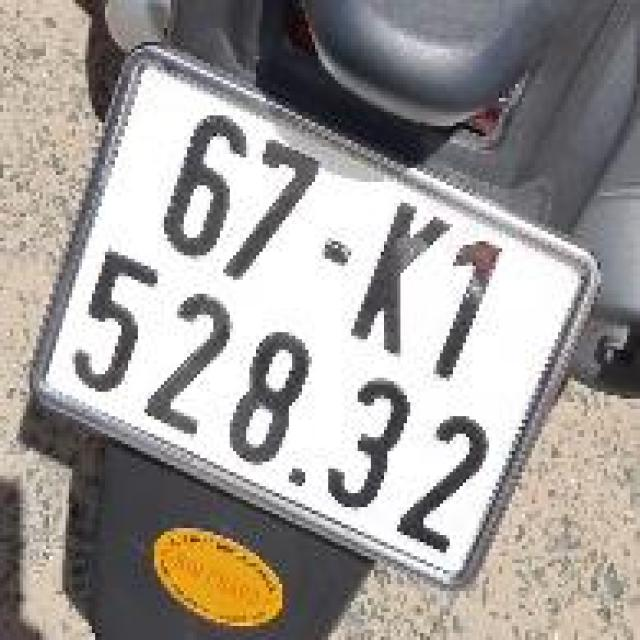1: (399, 215, 512, 400)
2: (383, 399, 509, 570), (131, 279, 256, 446)
3: (316, 360, 425, 531)
5: (59, 235, 172, 408)
6: (147, 101, 260, 275)
7: (201, 128, 338, 309)
8: (210, 311, 325, 484)
K: (338, 182, 460, 371)
